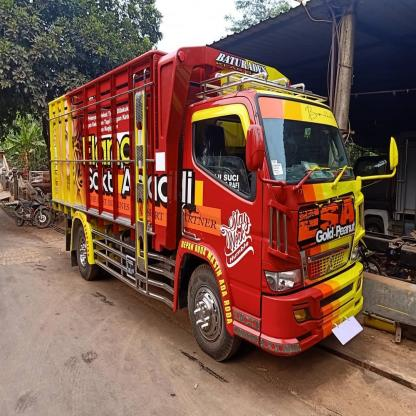truck: (50, 46, 397, 361)
